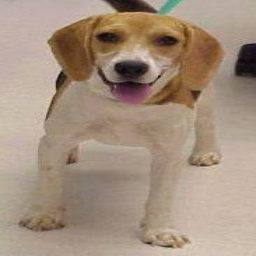dog: (18, 8, 225, 250)
